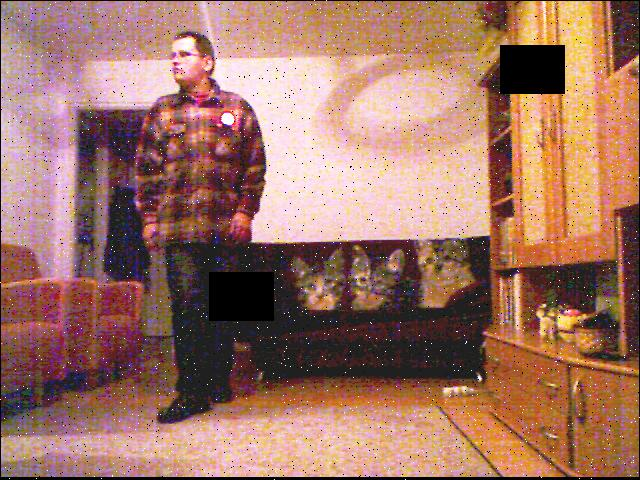walking: (127, 26, 263, 452)
